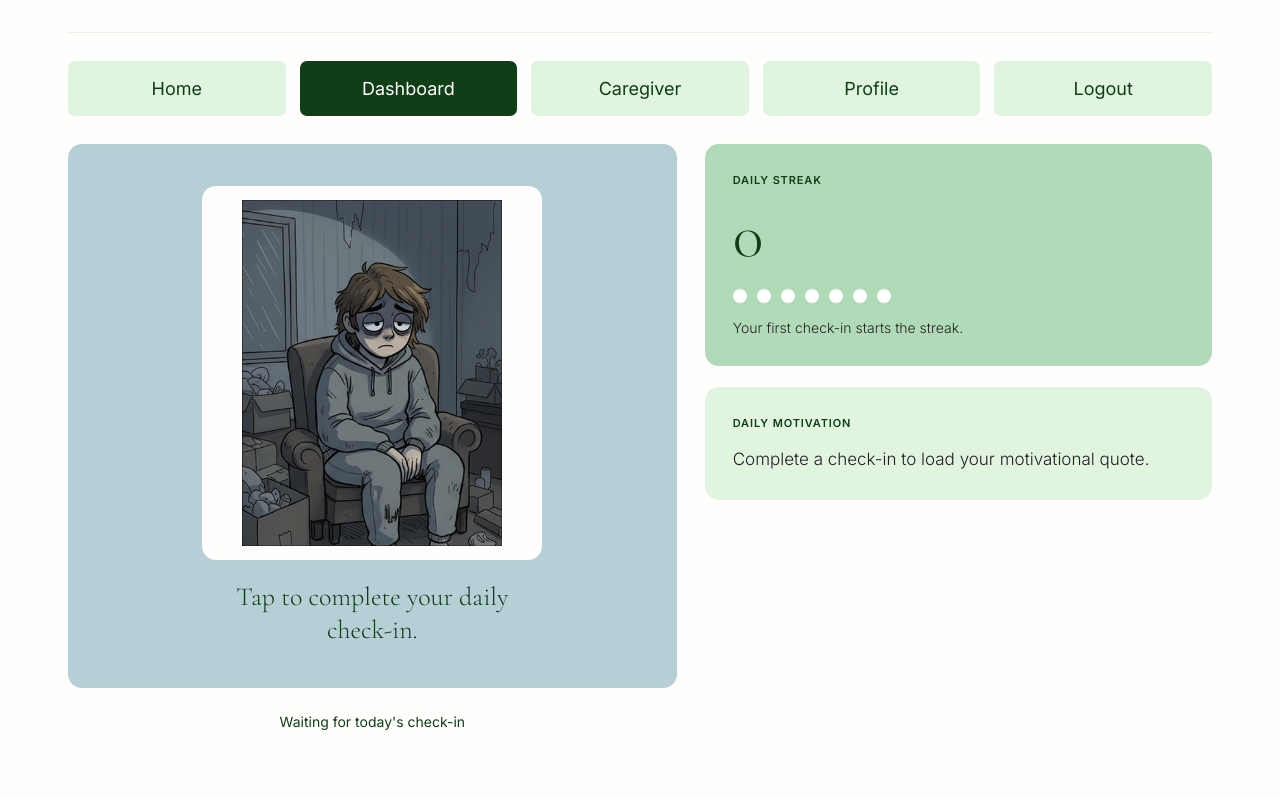
Test: Dashboard and shared context › check-in updates status and streak and loads quote
(page scrolled)
Expected: the text "0" is shown, [733, 197, 761, 274]
Click the button "Tap to complete your daily check-in.".
click(105, 416)  # box [68, 144, 677, 688]
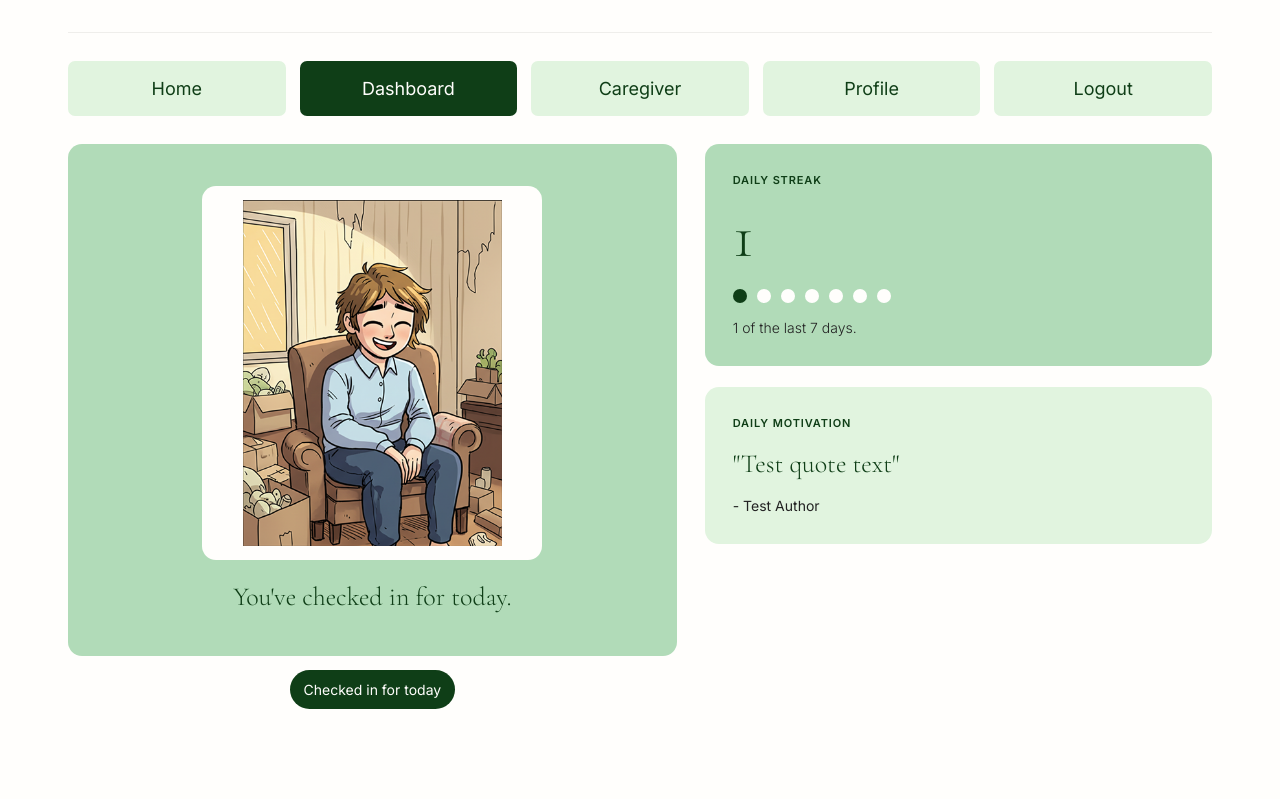
Now the text "Checked in for today" is shown, box [290, 670, 455, 709]
Now the text "\"Test quote text\"" is shown, box [733, 448, 899, 479]
Now the text "1" is shown, box [733, 197, 752, 274]
